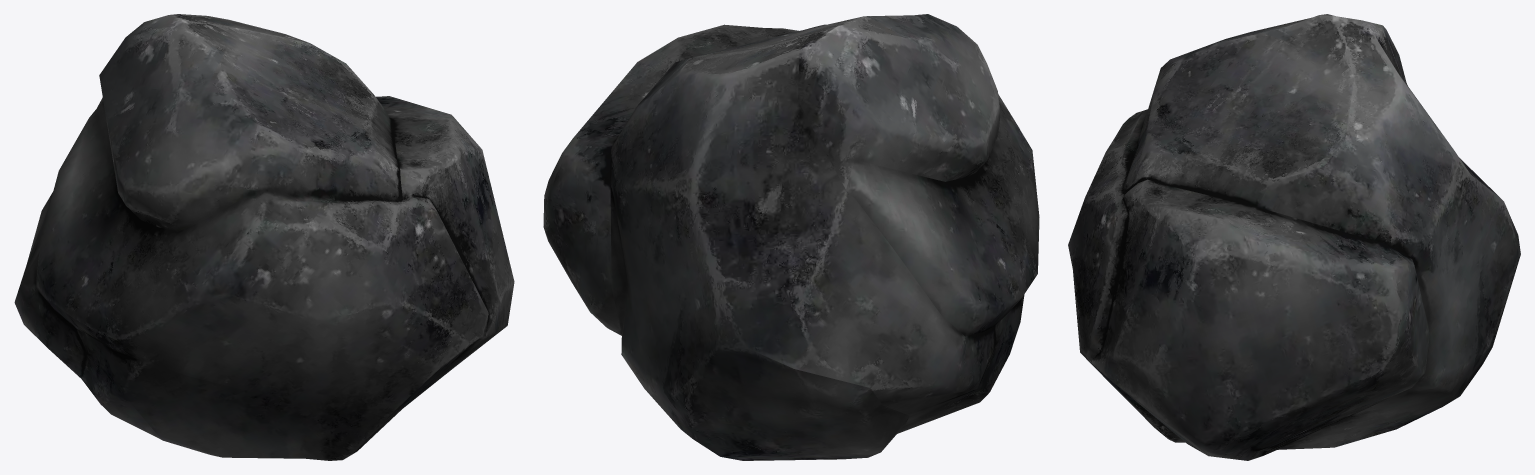
3 renders of one model, left to right at view 1: azimuth 30°, elevation 25°; view 2: azimuth 150°, elevation 25°; view 3: azimuth 270°, elevation 25°, orthographic. The views are drawn at different scales.
Parts seen in each view (by area): view 1: SM_Mining_Ore_Coal_02_LOD0; view 2: SM_Mining_Ore_Coal_02_LOD0; view 3: SM_Mining_Ore_Coal_02_LOD0.
Part boxes in pixels (box(x1,y1,x2,y2)): SM_Mining_Ore_Coal_02_LOD0: box(14, 14, 514, 460); SM_Mining_Ore_Coal_02_LOD0: box(543, 14, 1039, 460); SM_Mining_Ore_Coal_02_LOD0: box(1068, 14, 1520, 460).
Size of the model in its own units: 0.6294 by 0.622 by 0.6293.
